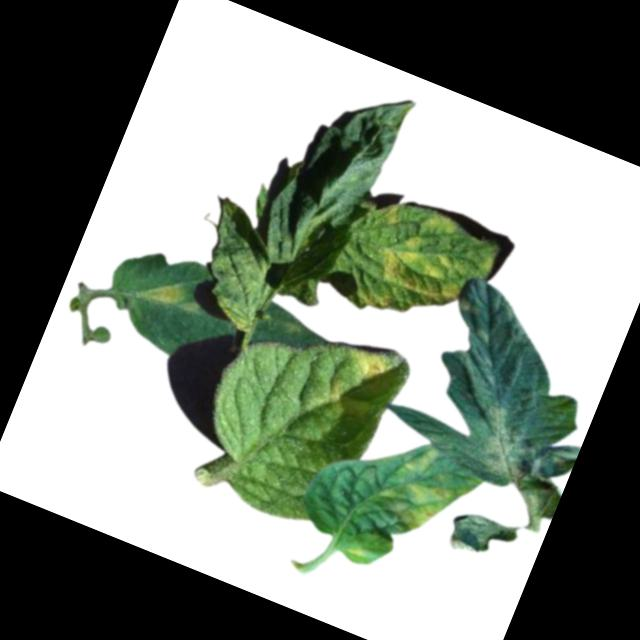Leaf_Mold: (356, 227, 473, 340), (373, 436, 477, 546), (459, 399, 549, 485), (341, 340, 389, 383), (139, 272, 188, 312), (375, 198, 403, 230), (323, 375, 344, 401)
